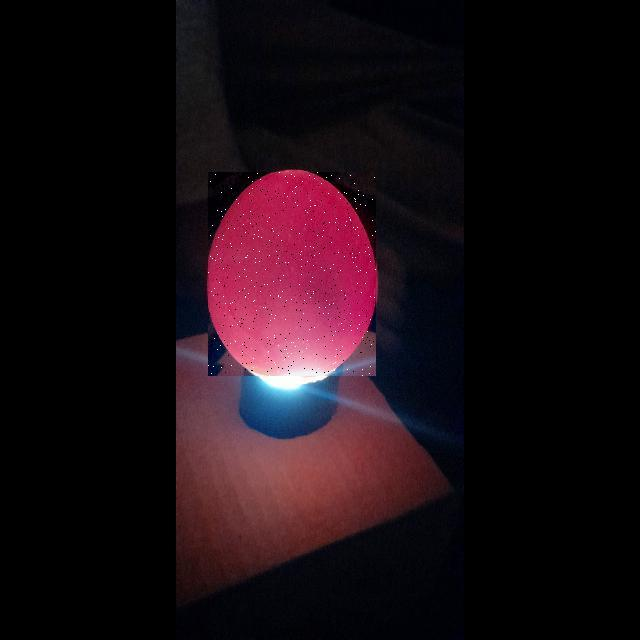Fertile: (208, 172, 376, 376)
